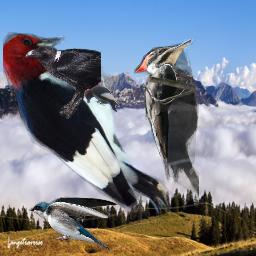Crow: (25, 45, 101, 119)
Swallow: (29, 196, 118, 251)
Woodpecker: (3, 32, 176, 217), (134, 39, 199, 205), (83, 85, 120, 113)
